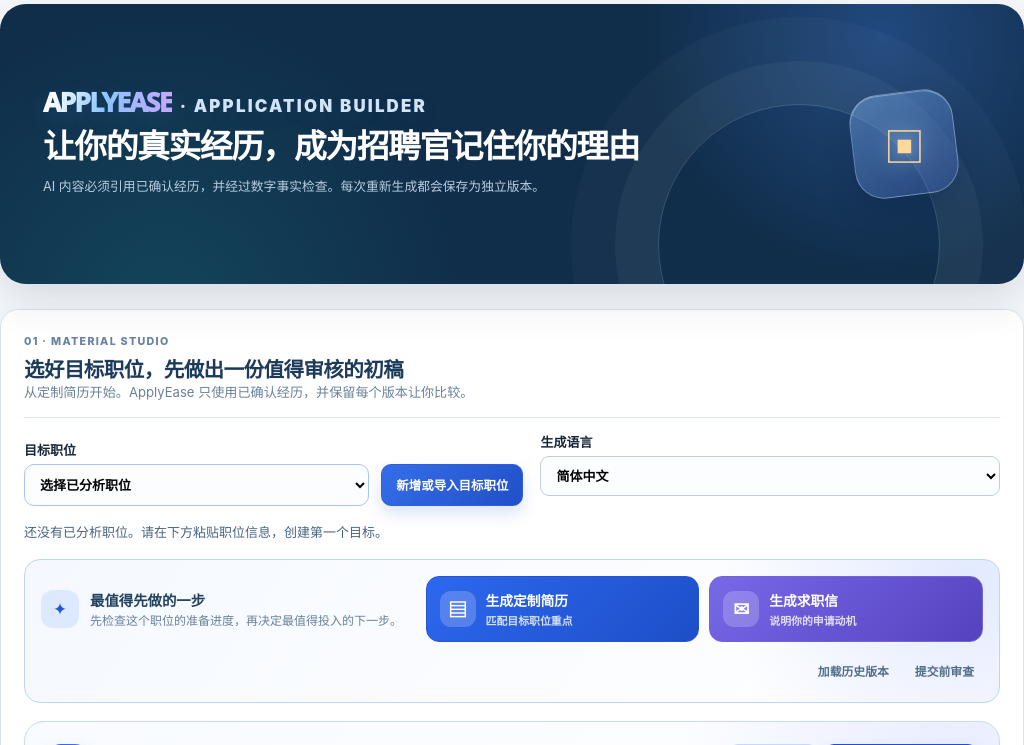
Scenario: ApplicationBuilderPage › blocks export controls when the selected version fails fact checking
Click the button "▤ 生成定制简历 匹配目标职位重点" at (562,609), box [426,576,699,642]
(page scrolled)
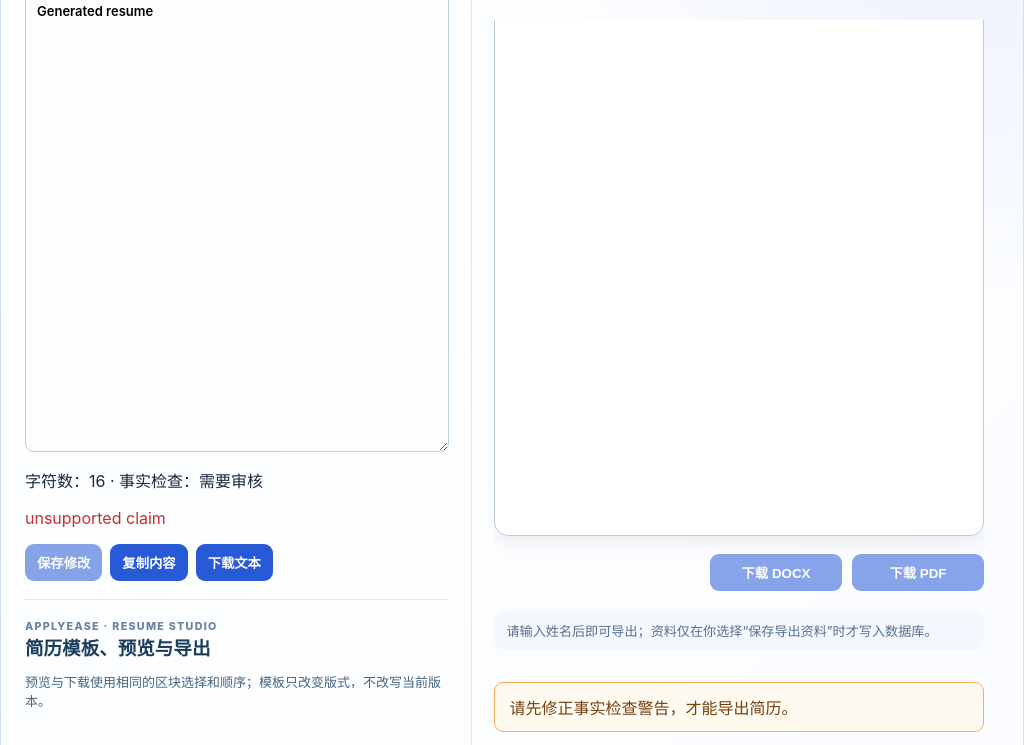
Check: the message shows "请先修正事实检查警告", box [509,698,797,718]
Check: the button "下载 DOCX" is disabled, box [710,554,842,591]
Check: the button "下载 PDF" is disabled, box [852,554,984,591]
